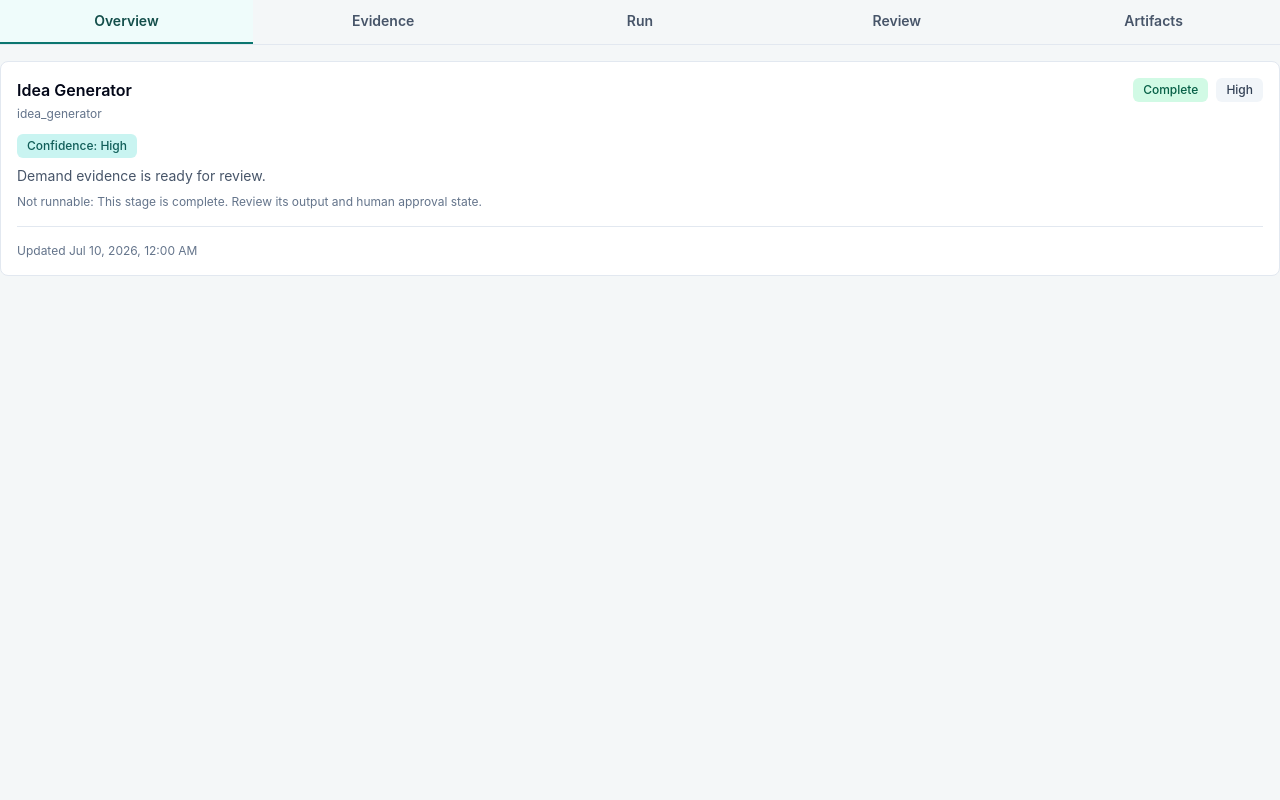
Scenario: StageWorkbenchTabs full mode › keeps complete output controls available in Artifacts
What coordinates should you click on to do the following:
click the tab "Artifacts"
I would click on:
 (1154, 22)
Its box is [1027,0,1279,44].
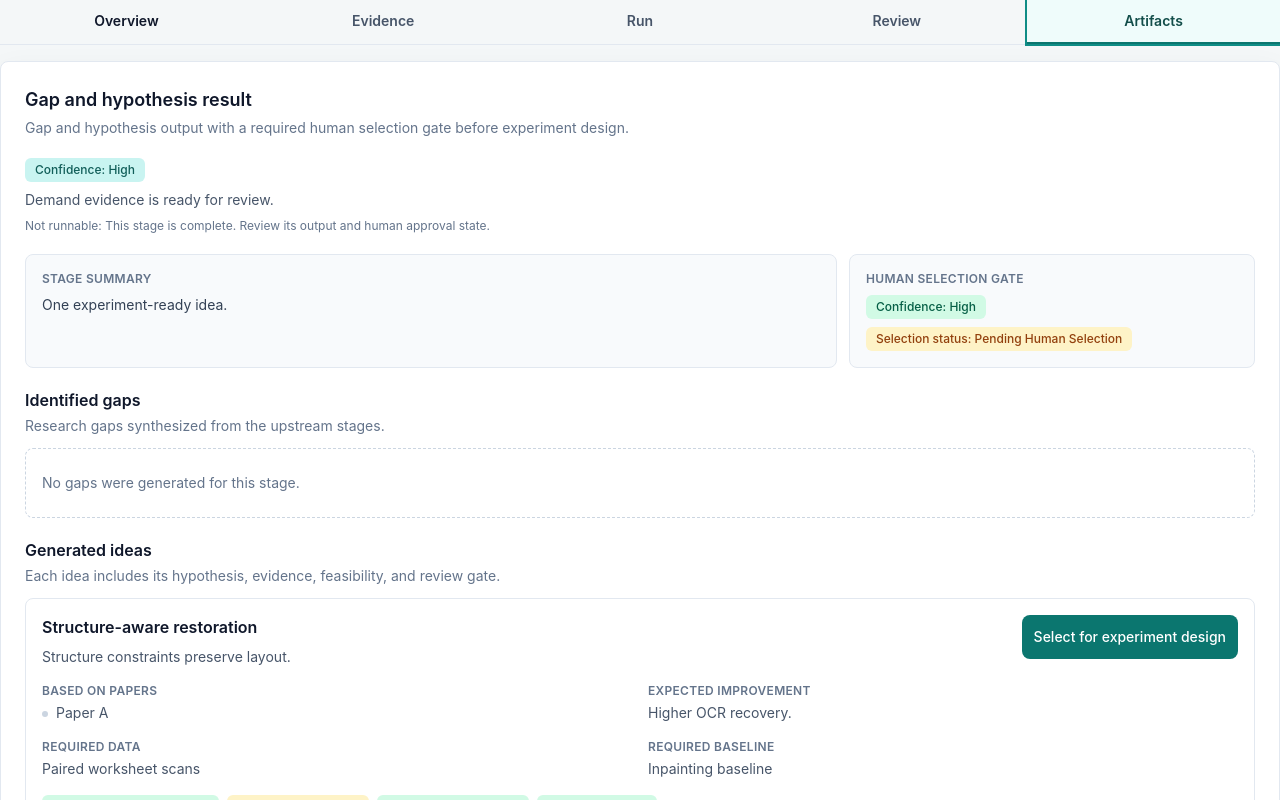
Check: the button "Select for experiment design" is shown, box [1022,615,1238,659]
